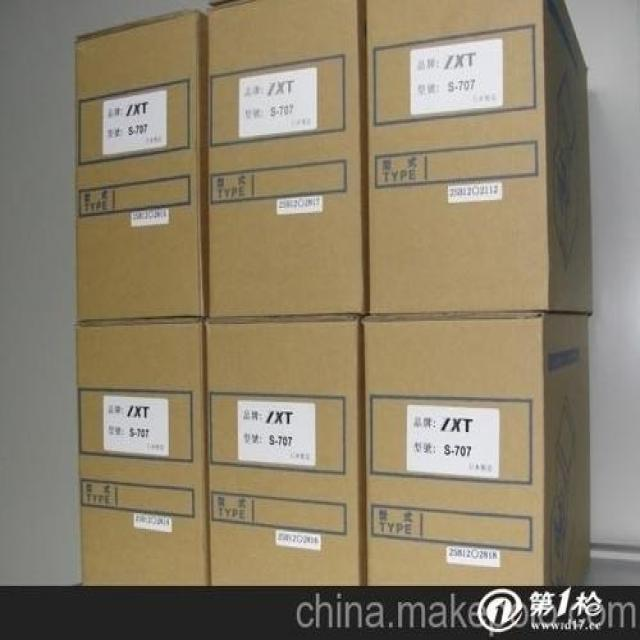box: (366, 0, 591, 316), (361, 314, 590, 584), (207, 0, 369, 318), (204, 313, 369, 588), (76, 10, 210, 321), (76, 318, 210, 586)
